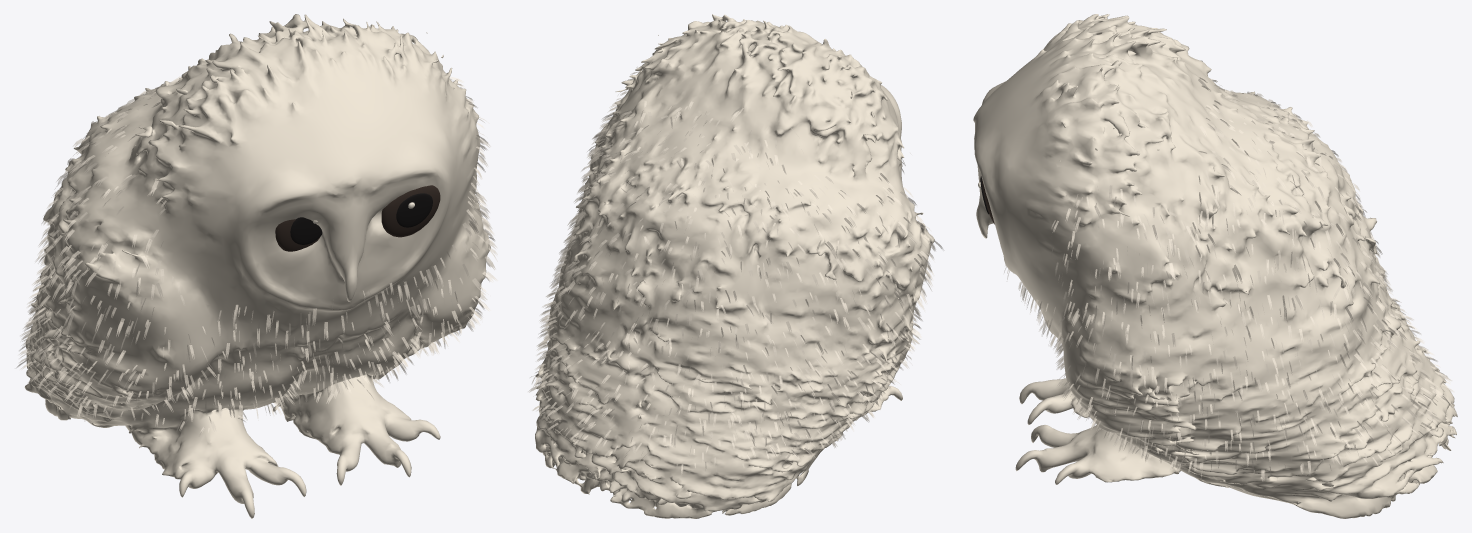
Rendered from run111_juvenile_compact_20_ART_UNAPPROVED.glb.
3 renders of one model, left to right at view 1: azimuth 30°, elevation 25°; view 2: azimuth 150°, elevation 25°; view 3: azimuth 270°, elevation 25°, orthographic. The views are drawn at different scales.
Parts seen in each view (by area): view 1: actual_neural_juvenile_sculpt_softened_RESEARCH_ONLY, Run110_physically_sampled_native_mesh_down_not_svg, real_socket_registered_dark_open_eye_1, nested_small_pupil_1, nested_small_pupil_-1, real_socket_registered_dark_open_eye_-1; view 2: actual_neural_juvenile_sculpt_softened_RESEARCH_ONLY, Run110_physically_sampled_native_mesh_down_not_svg; view 3: actual_neural_juvenile_sculpt_softened_RESEARCH_ONLY, Run110_physically_sampled_native_mesh_down_not_svg.
Part boxes in pixels (bbox=[...]): actual_neural_juvenile_sculpt_softened_RESEARCH_ONLY: bbox=[24, 14, 490, 518]; Run110_physically_sampled_native_mesh_down_not_svg: bbox=[16, 76, 497, 434]; real_socket_registered_dark_open_eye_1: bbox=[381, 185, 440, 237]; nested_small_pupil_1: bbox=[396, 193, 432, 227]; nested_small_pupil_-1: bbox=[290, 217, 322, 244]; real_socket_registered_dark_open_eye_-1: bbox=[275, 219, 319, 251]; actual_neural_juvenile_sculpt_softened_RESEARCH_ONLY: bbox=[535, 14, 934, 518]; Run110_physically_sampled_native_mesh_down_not_svg: bbox=[528, 71, 943, 474]; actual_neural_juvenile_sculpt_softened_RESEARCH_ONLY: bbox=[973, 14, 1457, 518]; Run110_physically_sampled_native_mesh_down_not_svg: bbox=[1004, 60, 1453, 481].
Size of the model in its own units: 1.71 by 1.76 by 1.78.
